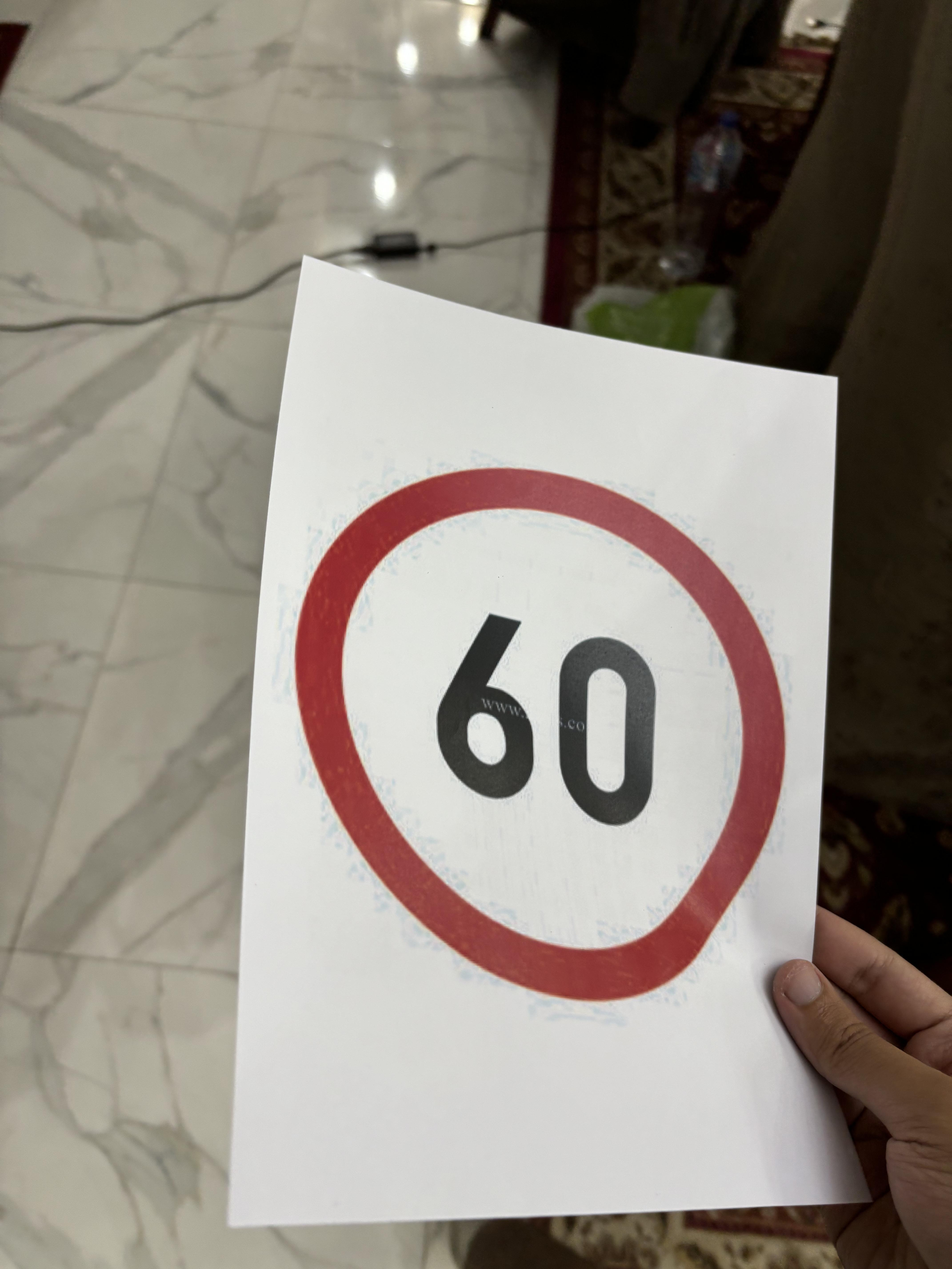60-Speed: (294, 458, 799, 1005)
